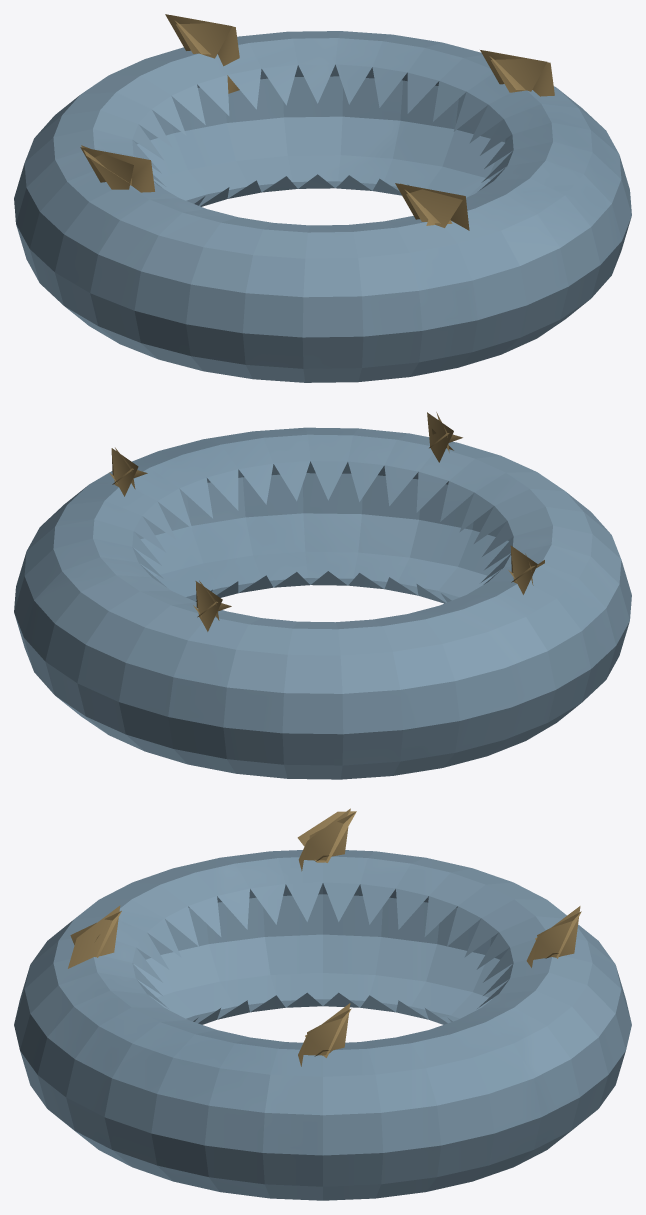
The model's file is TY38_TeethingRing.glb.
3 renders of one model, top to bottom at view 1: azimuth 30°, elevation 25°; view 2: azimuth 150°, elevation 25°; view 3: azimuth 270°, elevation 25°, orthographic.
Visible parts, largest first — view 1: TY38_TeethingRing; view 2: TY38_TeethingRing; view 3: TY38_TeethingRing.
Part boxes in pixels (x1,y1,x2,y2): TY38_TeethingRing: [14, 14, 631, 382]; TY38_TeethingRing: [14, 412, 631, 779]; TY38_TeethingRing: [14, 808, 631, 1200].
Size of the model in its own units: 0.1 by 0.0316 by 0.1.
Materials: 2 (2 with a texture image).
